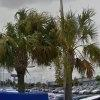Palm tree: (7, 6, 87, 90)
